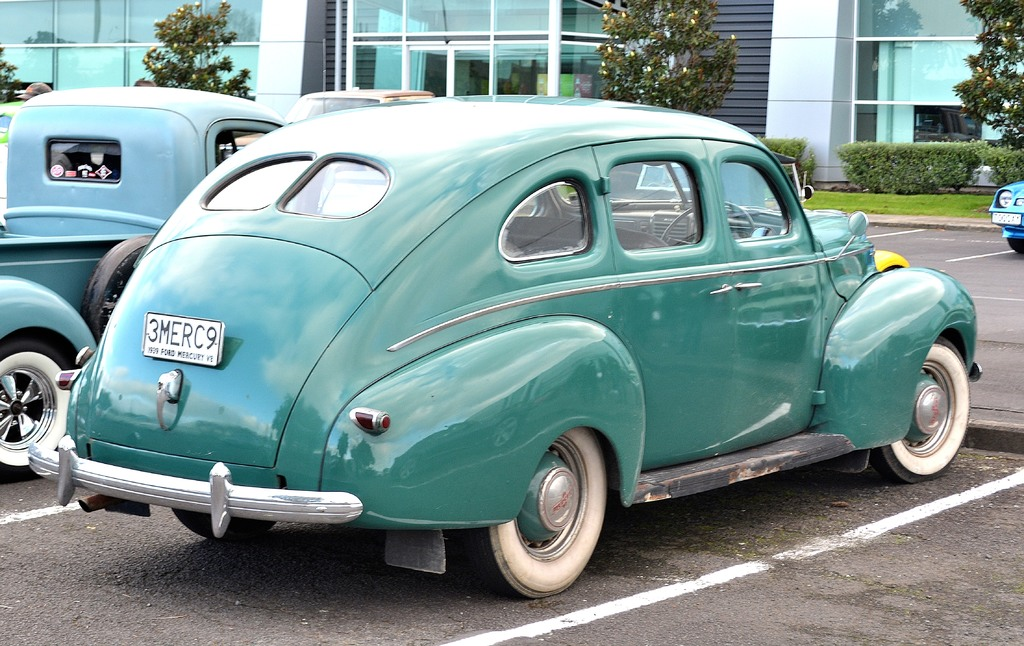Car: (30, 94, 983, 597), (0, 80, 281, 479), (988, 179, 1023, 261), (0, 98, 19, 234)
